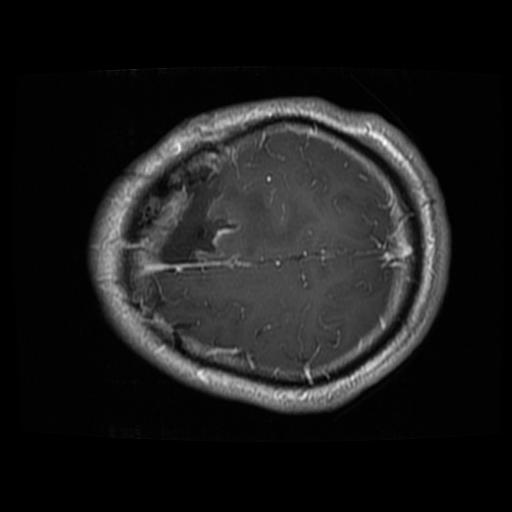glioma: (157, 167, 236, 267)
